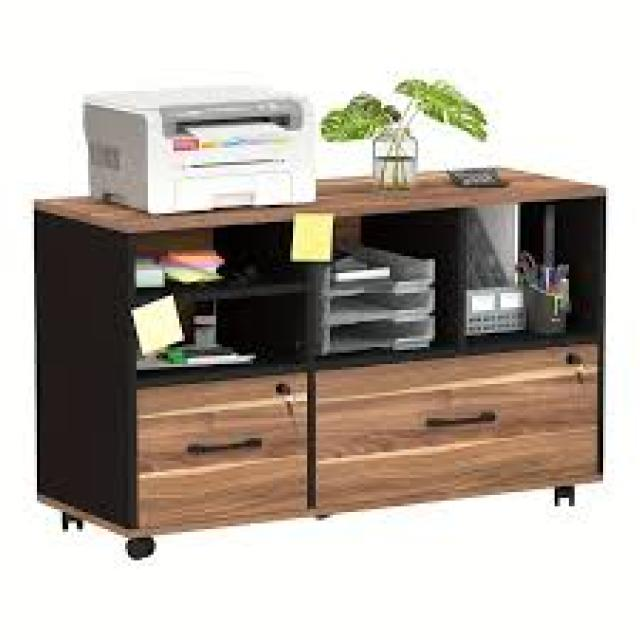printer: (80, 82, 316, 214)
